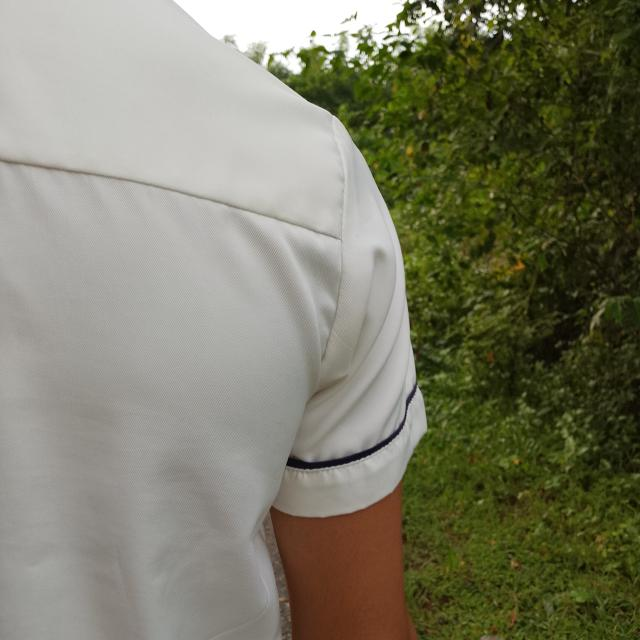education_male_uniform: (0, 21, 462, 556)
